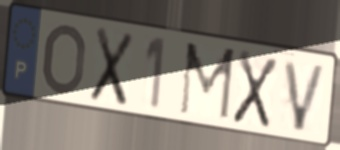1: (141, 33, 167, 113)
M: (177, 40, 238, 124)
O: (39, 21, 88, 97)
V: (281, 57, 330, 135)
X: (229, 47, 280, 132), (87, 24, 137, 110)
